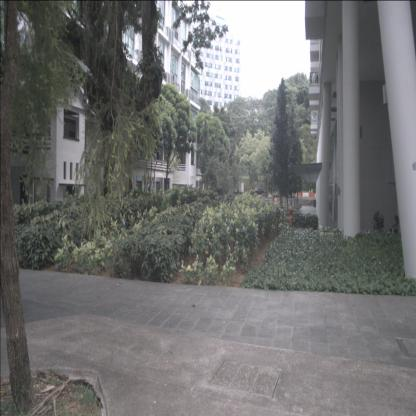human-pedestrian-adult: (391, 214, 399, 254)
movable_object-barrier: (309, 192, 316, 198), (302, 192, 310, 197), (297, 191, 302, 197)
vehicle-car: (254, 188, 268, 196)
